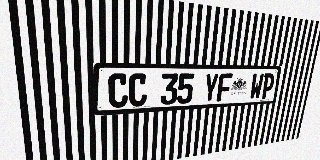3: (160, 73, 178, 105)
5: (177, 73, 194, 104)
C: (108, 73, 128, 108), (128, 73, 148, 107)
F: (216, 73, 233, 102)
P: (260, 73, 275, 99)
W: (249, 73, 264, 100)
Y: (202, 73, 219, 102)
